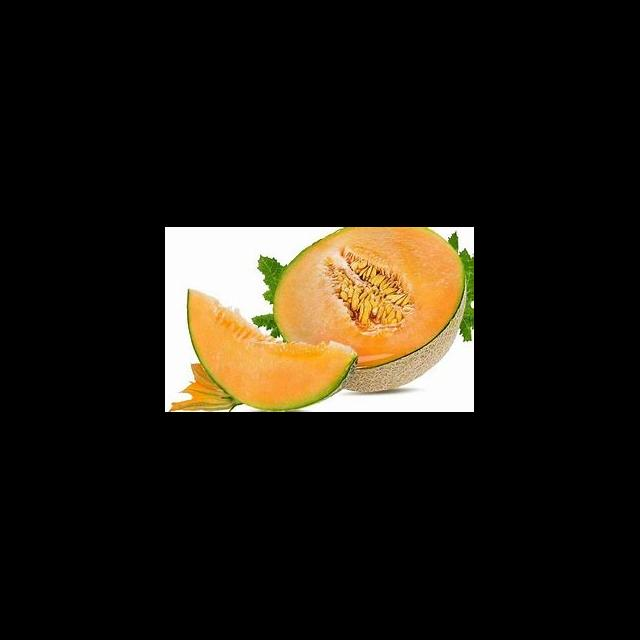Hami Melon: (274, 228, 468, 391), (187, 288, 358, 412)
